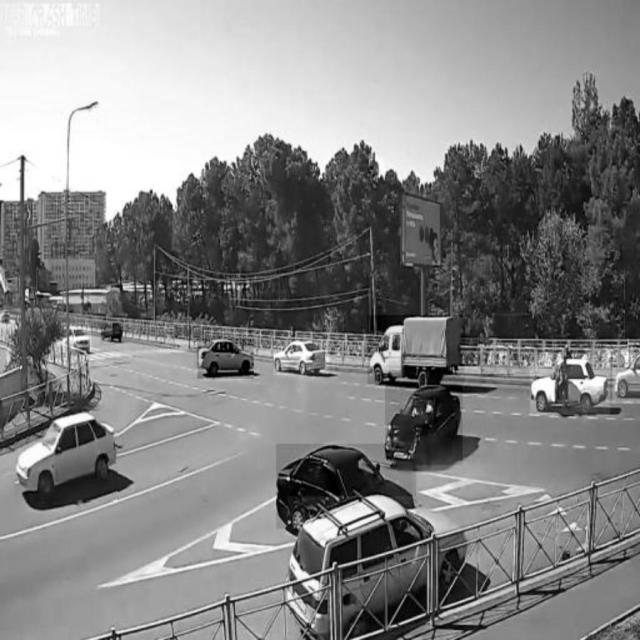vehicle: (288, 496, 465, 636), (277, 444, 417, 528), (15, 410, 117, 502), (367, 315, 465, 383), (386, 384, 463, 465), (531, 355, 611, 415), (198, 339, 254, 379), (275, 340, 330, 376), (613, 353, 640, 404), (61, 323, 91, 353), (100, 316, 124, 344)
